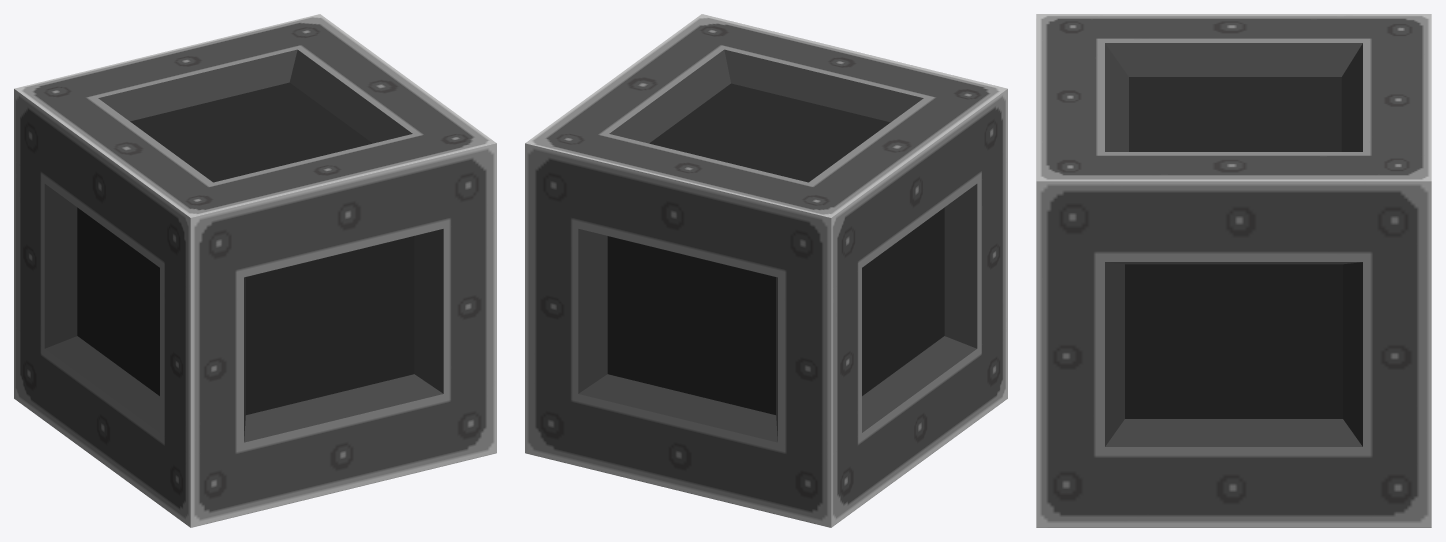
File: metal_block.FBX
The picture shows the model from 3 angles, left to right: view 1: azimuth 30°, elevation 25°; view 2: azimuth 150°, elevation 25°; view 3: azimuth 270°, elevation 25°; orthographic projection. The views are drawn at different scales.
Parts seen in each view (by area): view 1: metal_block; view 2: metal_block; view 3: metal_block.
Part boxes in pixels (x1,y1,x2,y2): metal_block: [14, 14, 496, 527]; metal_block: [525, 14, 1007, 527]; metal_block: [1036, 14, 1431, 527].
Bounding box in the file's own units: 260 × 252 × 260.
